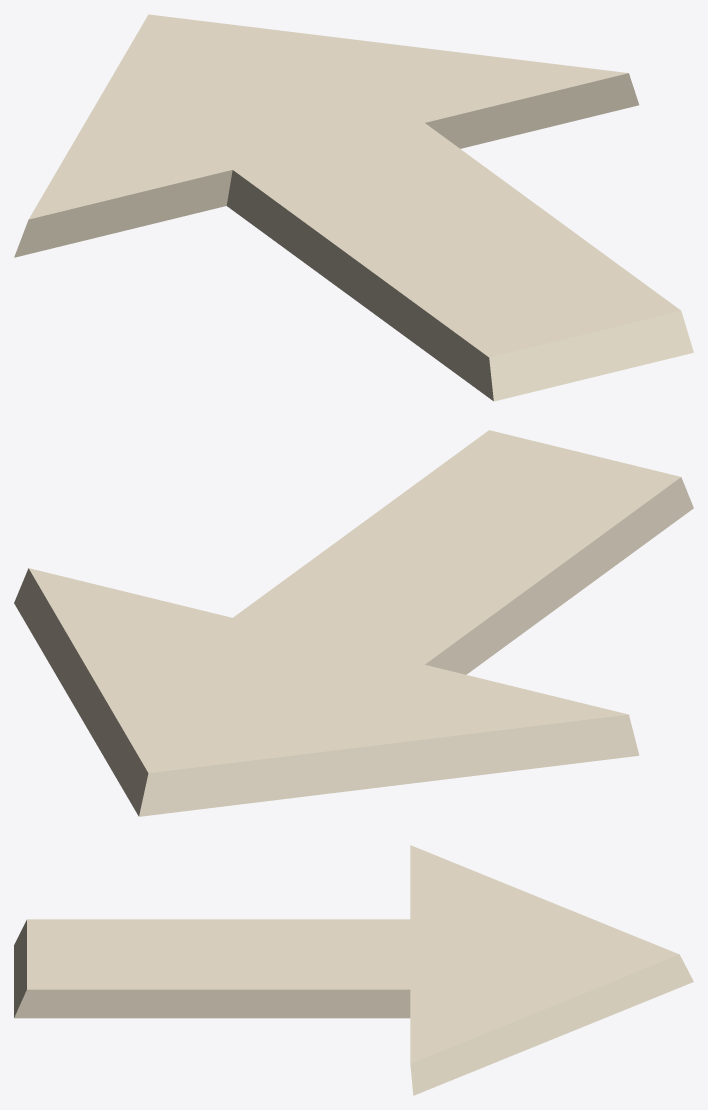
The model's file is SunnyLoop_Space_Symbol_Gain_v1.glb.
3 renders of one model, top to bottom at view 1: azimuth 30°, elevation 25°; view 2: azimuth 150°, elevation 25°; view 3: azimuth 270°, elevation 25°, orthographic. The views are drawn at different scales.
Visible parts, largest first — view 1: SunnyLoop_Space_Symbol_Gain_v1; view 2: SunnyLoop_Space_Symbol_Gain_v1; view 3: SunnyLoop_Space_Symbol_Gain_v1.
Part boxes in pixels (left/top/right/bottom): SunnyLoop_Space_Symbol_Gain_v1: left=14, top=14, right=693, bottom=401; SunnyLoop_Space_Symbol_Gain_v1: left=14, top=430, right=693, bottom=816; SunnyLoop_Space_Symbol_Gain_v1: left=14, top=845, right=693, bottom=1095.
Bounding box in the file's own units: 0.7 × 0.0392 × 0.882.
